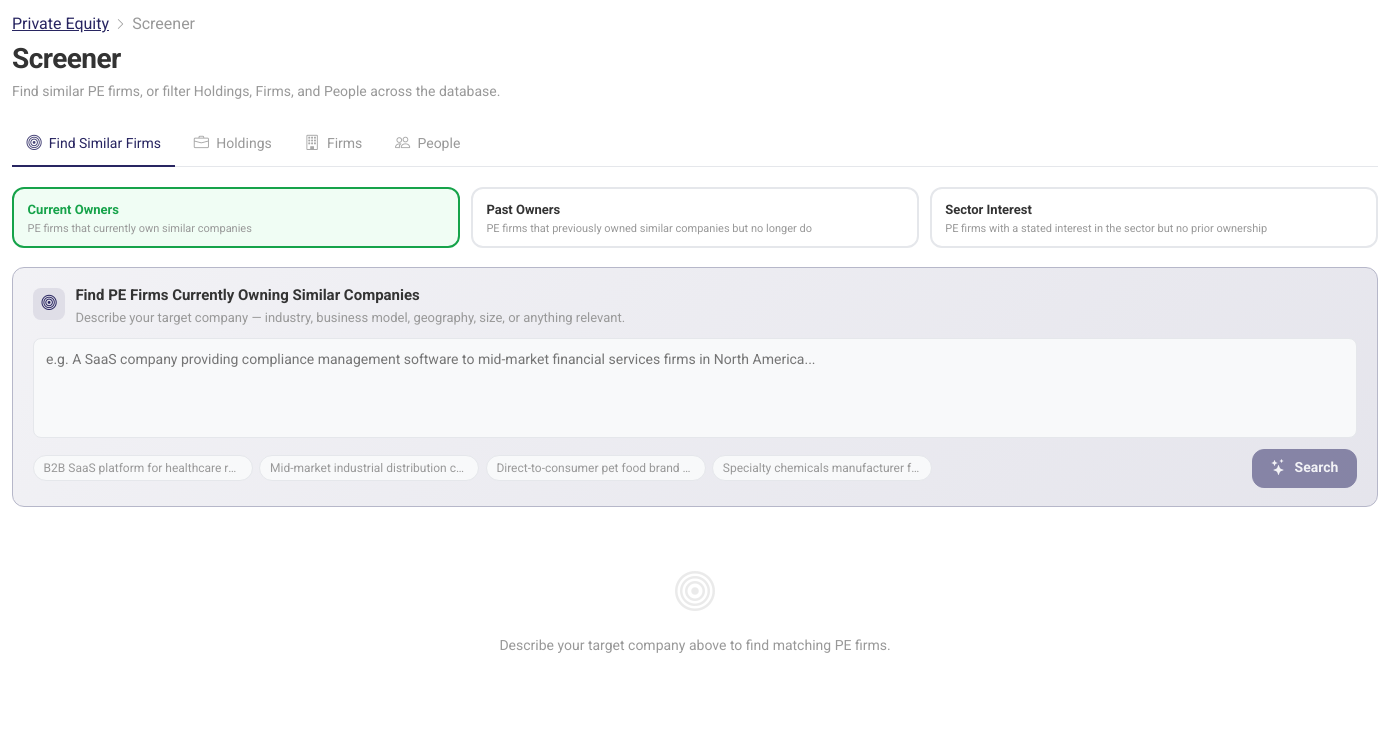
Scenario: PEScreenerPage — tabs & layout › populates the sector/geography dropdowns from /options
Click the tab "Holdings" at (233, 145), box [180, 122, 286, 167]
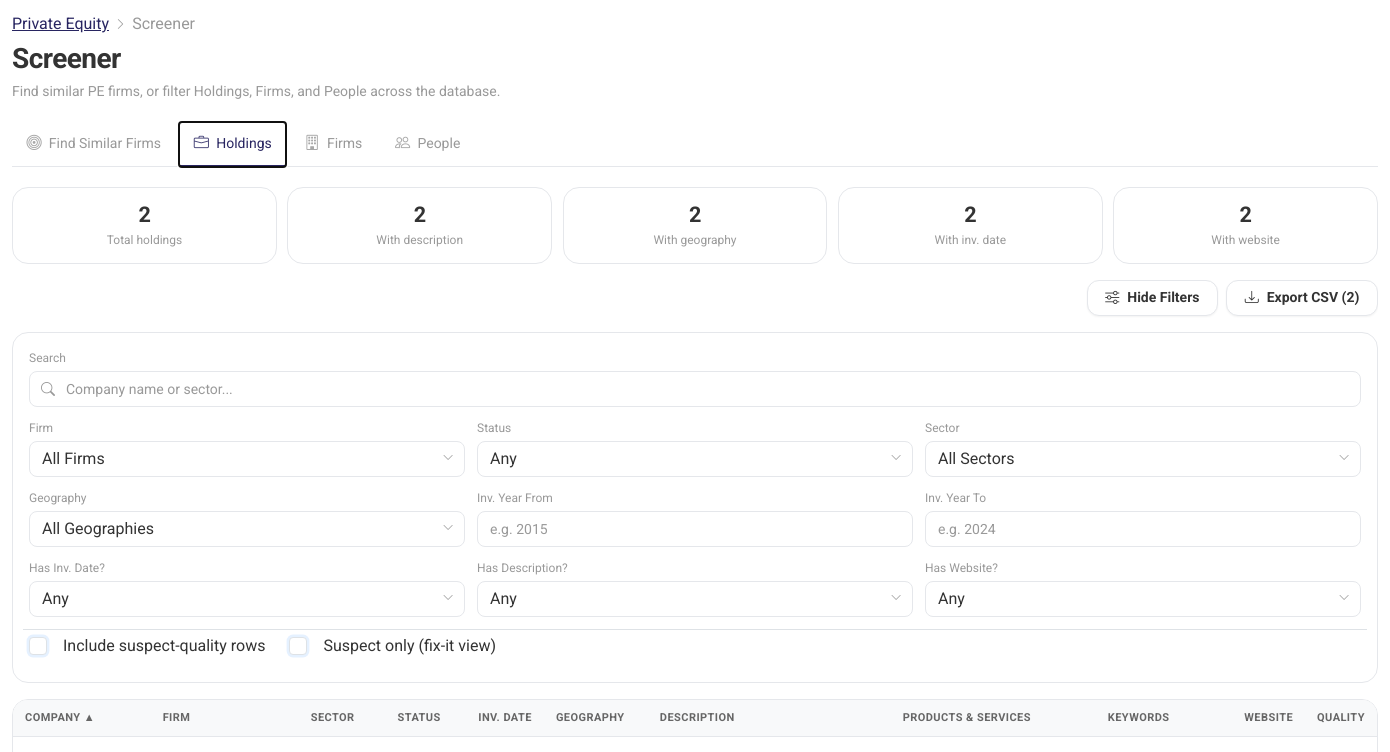
Click the dropdown named "filter by sector" at (1143, 459), box [925, 441, 1361, 477]
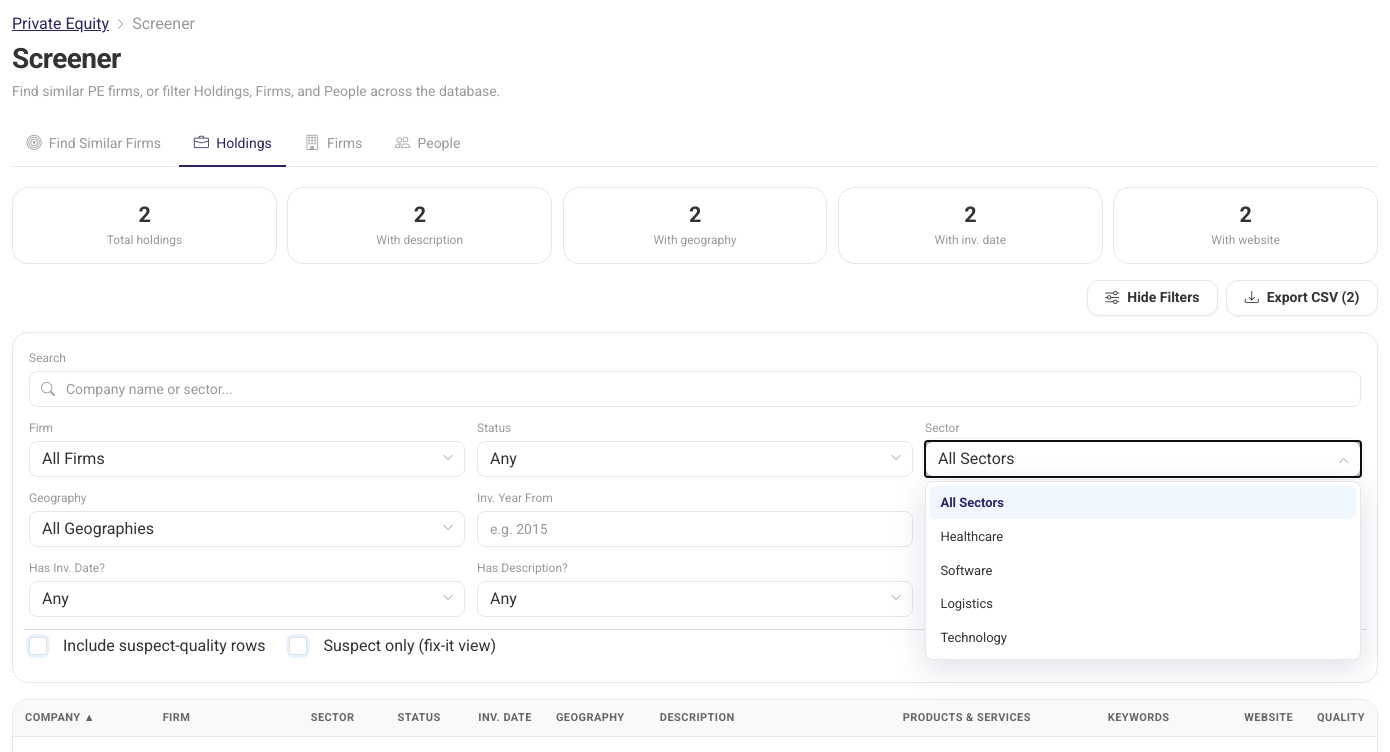
Expected: the option "Logistics" is shown, [930, 587, 1356, 621]
